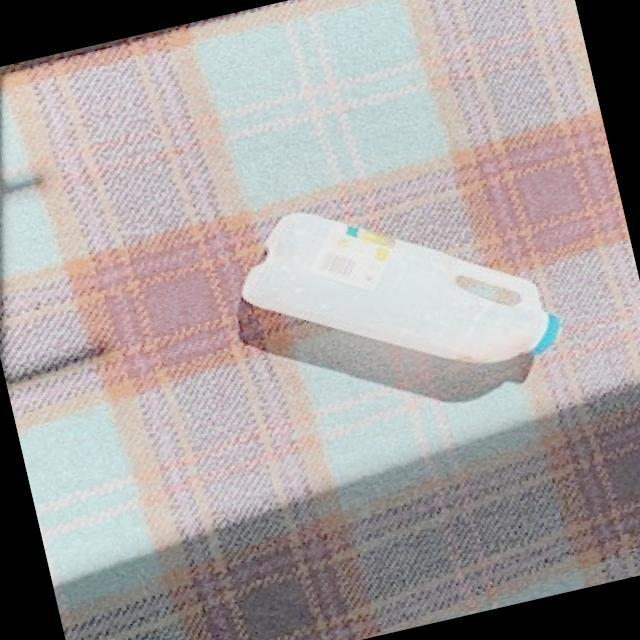HDPE Plastic: (239, 207, 560, 369)
